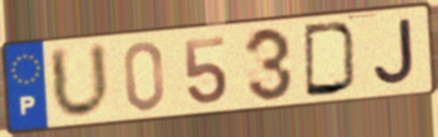0: (120, 39, 167, 113)
3: (241, 25, 295, 105)
5: (181, 34, 230, 106)
D: (301, 20, 361, 99)
J: (371, 16, 417, 88)
U: (46, 40, 115, 123)
